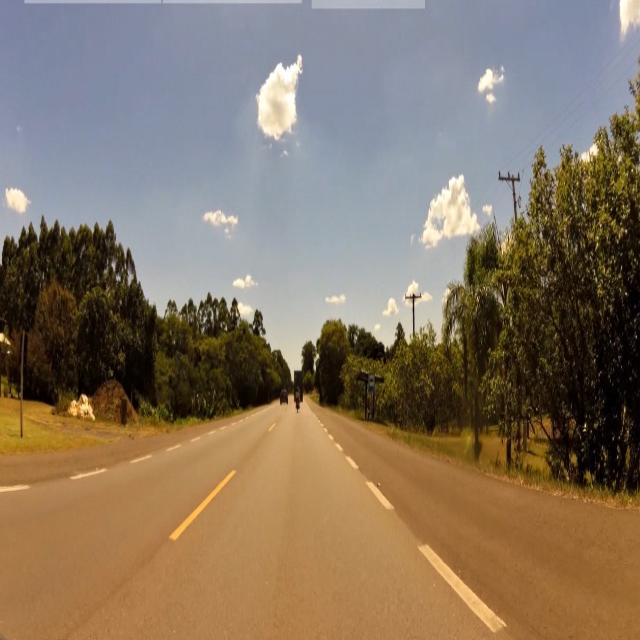S-14: (368, 372, 376, 394)
